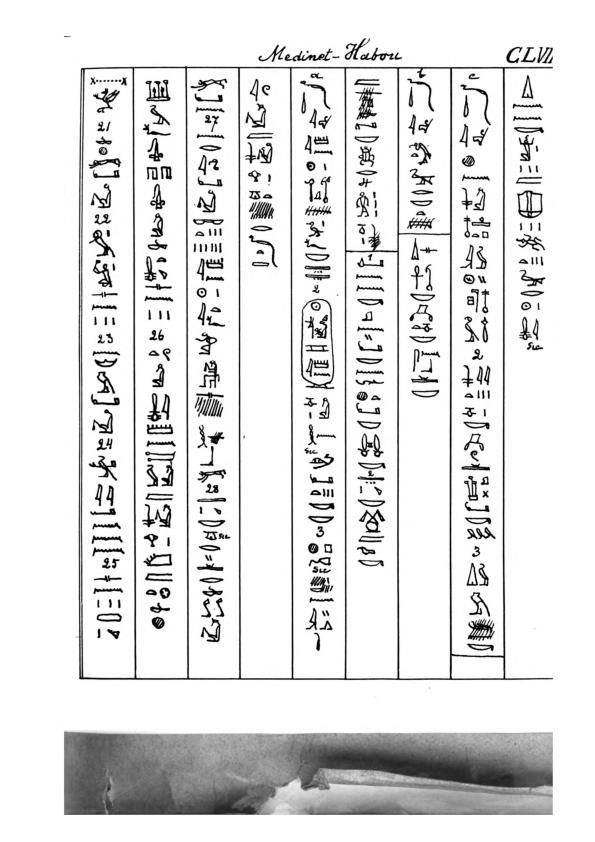circle: (299, 297, 338, 393)
